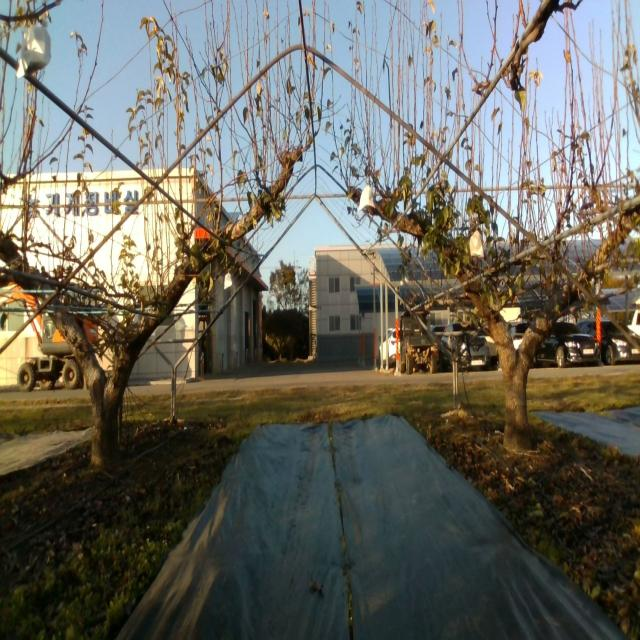pearbags: (16, 19, 51, 78), (469, 227, 485, 261), (358, 185, 375, 213)
